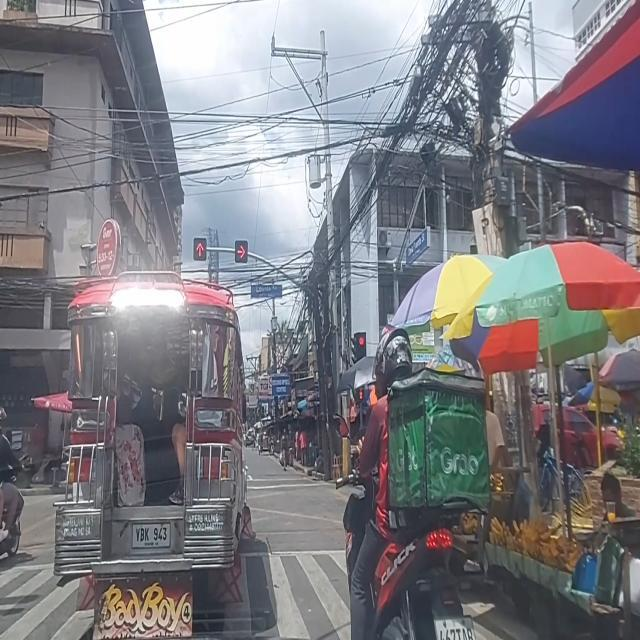jeepney: (53, 268, 248, 640), (258, 432, 274, 457)
motorcycle: (334, 328, 490, 639), (0, 404, 30, 562)
